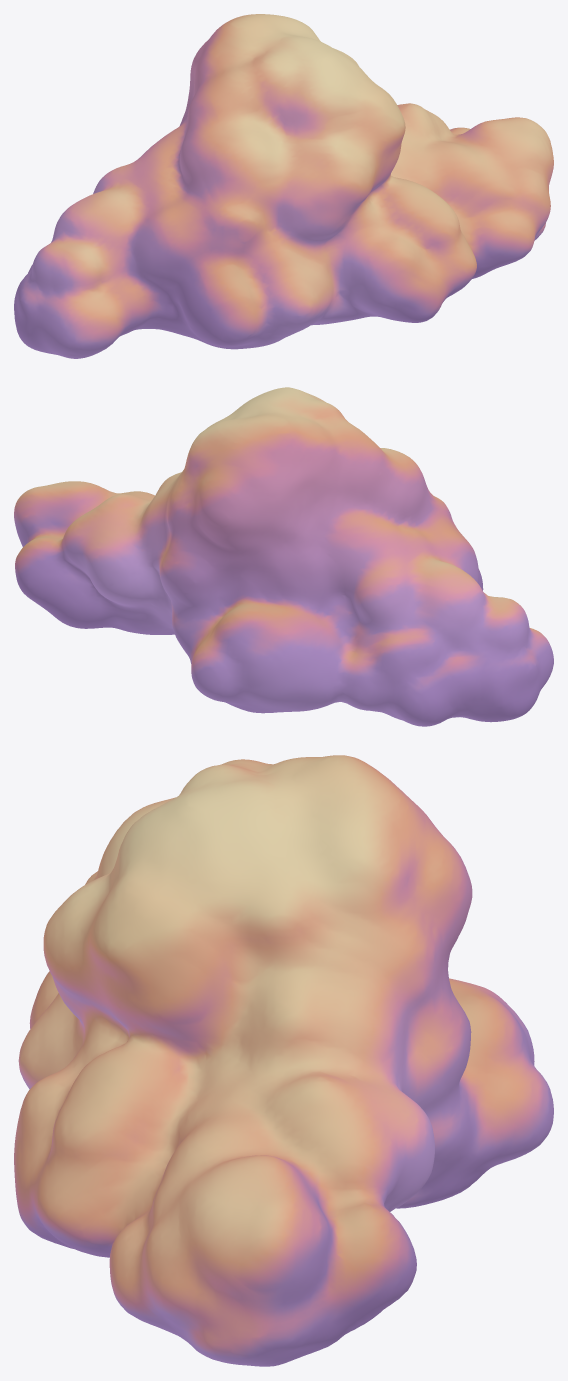
The model's file is nube4.glb.
The picture shows the model from 3 angles, top to bottom: view 1: azimuth 30°, elevation 25°; view 2: azimuth 150°, elevation 25°; view 3: azimuth 270°, elevation 25°; orthographic projection. The views are drawn at different scales.
Visible parts, largest first — view 1: nube_01_cumulo_grande; view 2: nube_01_cumulo_grande; view 3: nube_01_cumulo_grande.
Part boxes in pixels (x1,y1,x2,y2): nube_01_cumulo_grande: (14,14,553,358); nube_01_cumulo_grande: (14,387,553,726); nube_01_cumulo_grande: (14,755,553,1366).
Size of the model in its own units: 4 by 1.94 by 2.22.
